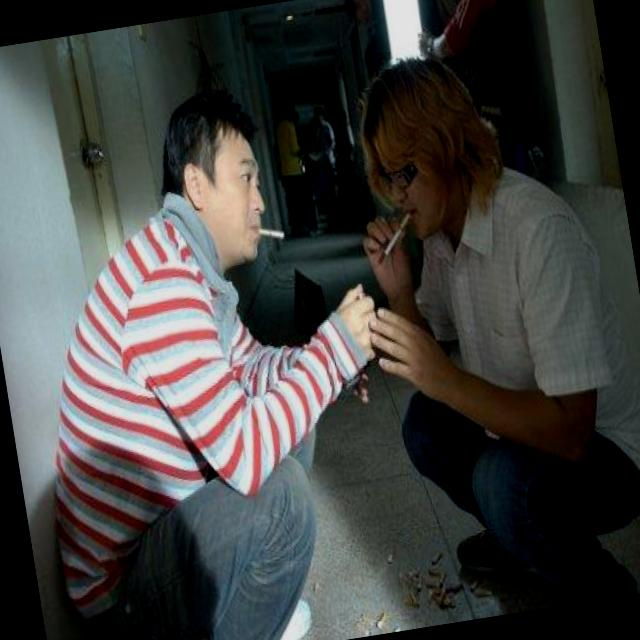smoke: (376, 211, 417, 261), (256, 218, 287, 248)
